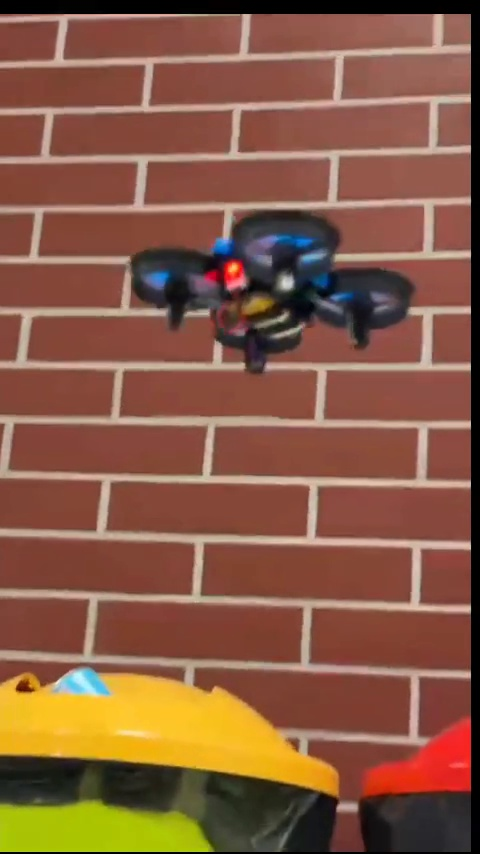drone: (130, 213, 411, 382)
